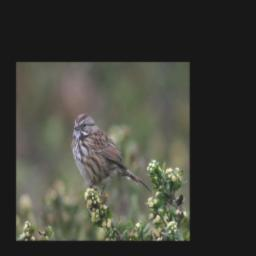Sparrow: (68, 112, 154, 206)
